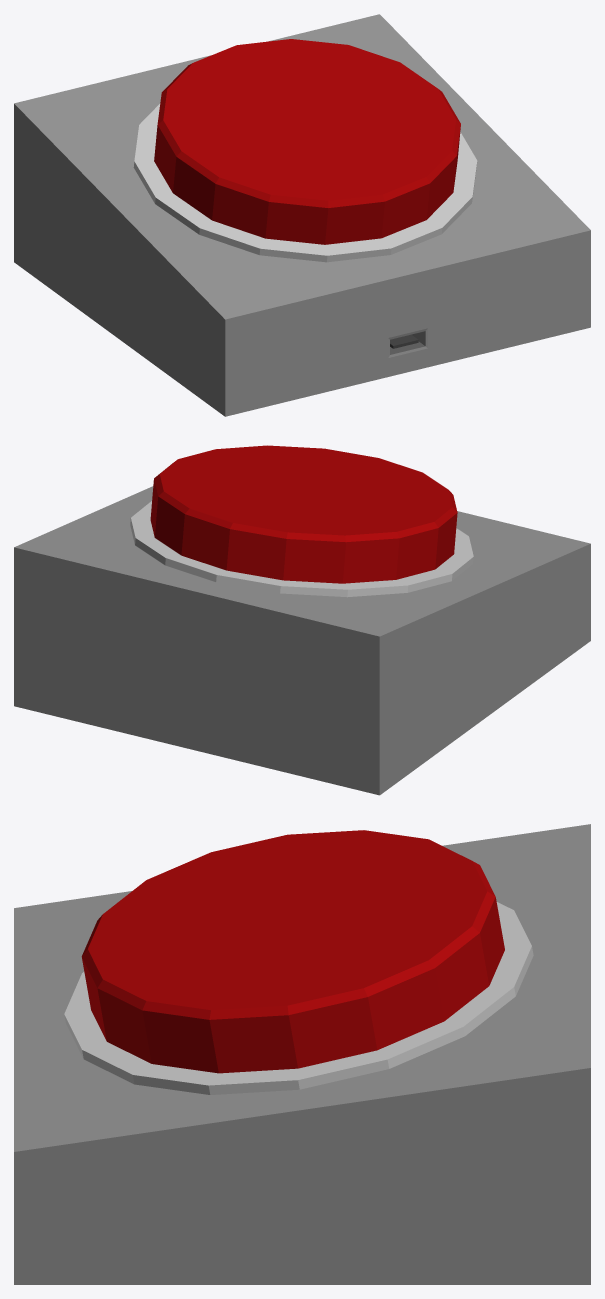
The model's file is HackButton.fbx.
The picture shows the model from 3 angles, top to bottom: view 1: azimuth 30°, elevation 25°; view 2: azimuth 150°, elevation 25°; view 3: azimuth 270°, elevation 25°; orthographic projection. The views are drawn at different scales.
Parts seen in each view (by area): view 1: HackButtonBase, HackButtonButton; view 2: HackButtonBase, HackButtonButton; view 3: HackButtonBase, HackButtonButton.
Boxes of the visible parts, <box> form: HackButtonBase: <box>14,14,590,416</box>; HackButtonButton: <box>154,39,460,244</box>; HackButtonBase: <box>14,486,590,795</box>; HackButtonButton: <box>150,445,457,583</box>; HackButtonBase: <box>14,824,590,1284</box>; HackButtonButton: <box>81,830,504,1073</box>.
Size of the model in its own units: 15.84 by 8.27 by 15.84.
